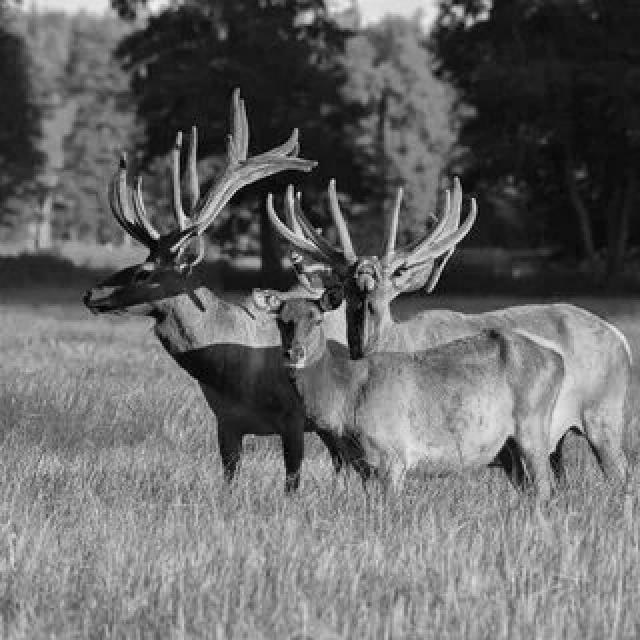Deer: (24, 155, 503, 530), (339, 235, 639, 490), (268, 285, 540, 547)
